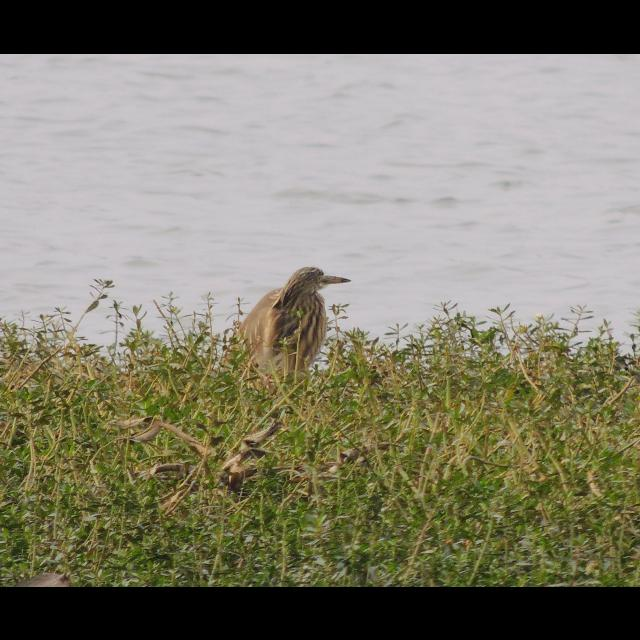heron: (238, 259, 359, 393)
